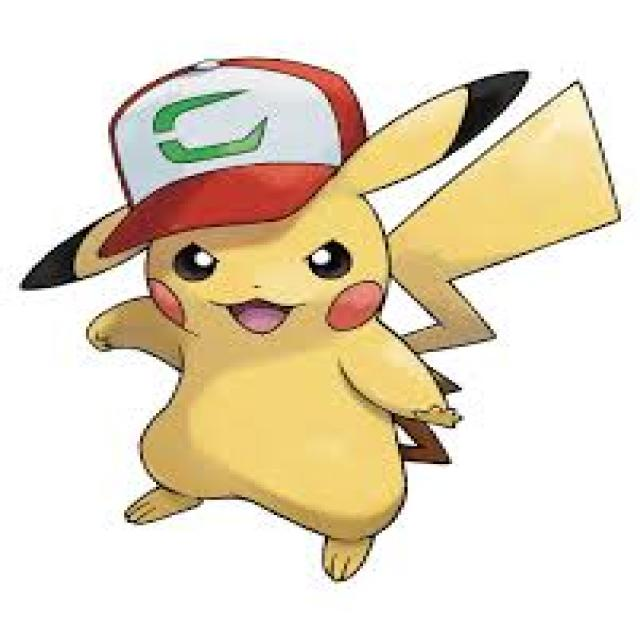pikachu: (24, 54, 616, 580)
